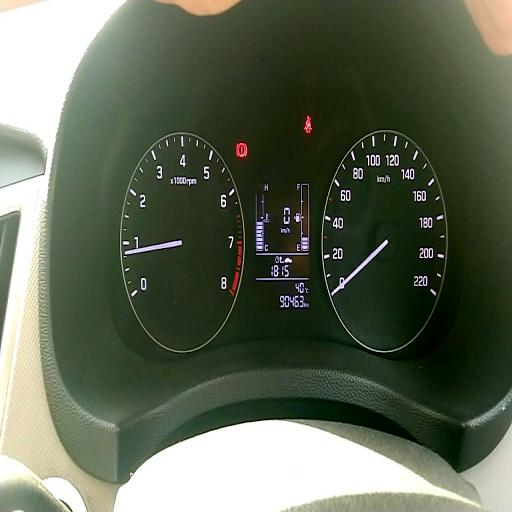belt: (304, 116, 313, 134)
brake_system_fault: (236, 142, 248, 158)
tachometer: (119, 132, 245, 353)
